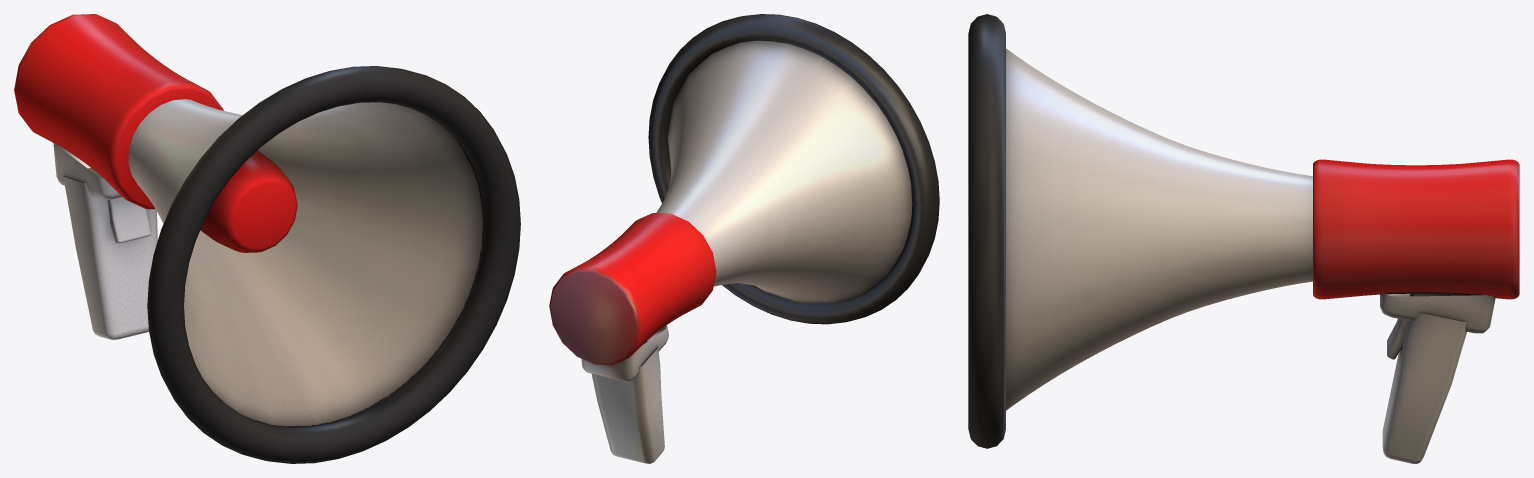
File: Megaphone_1.fbx
3 renders of one model, left to right at view 1: azimuth 30°, elevation 25°; view 2: azimuth 150°, elevation 25°; view 3: azimuth 270°, elevation 25°, orthographic. The views are drawn at different scales.
Parts seen in each view (by area): view 1: Megaphone.005; view 2: Megaphone.005; view 3: Megaphone.005.
Boxes of the visible parts, x1,y1,x2,y2 form: Megaphone.005: [14, 14, 520, 463]; Megaphone.005: [549, 14, 939, 463]; Megaphone.005: [968, 14, 1519, 463].
Bounding box in the file's own units: 865 × 924 × 1096.
